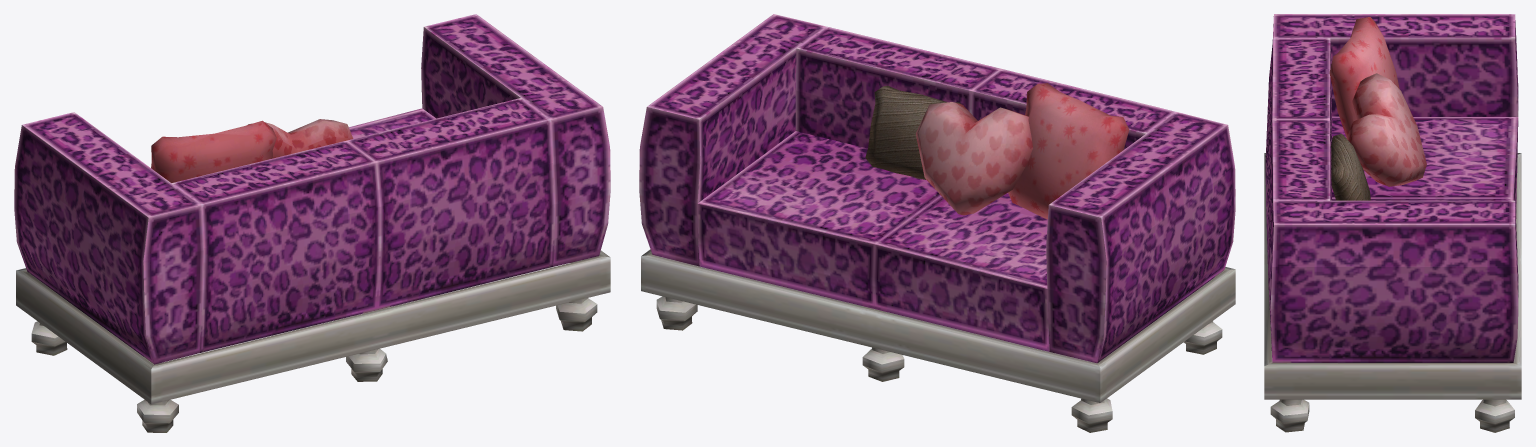
File: furni_0200099_02.FBX
3 renders of one model, left to right at view 1: azimuth 30°, elevation 25°; view 2: azimuth 150°, elevation 25°; view 3: azimuth 270°, elevation 25°, orthographic. The views are drawn at different scales.
Visible parts, largest first — view 1: furni_0200099_02; view 2: furni_0200099_02; view 3: furni_0200099_02.
Part boxes in pixels (left/top/right/bottom): furni_0200099_02: left=14, top=14, right=610, bottom=432; furni_0200099_02: left=639, top=14, right=1235, bottom=432; furni_0200099_02: left=1264, top=14, right=1521, bottom=432.
Size of the model in its own units: 159 by 82.48 by 80.
1 material, 1 textured.
